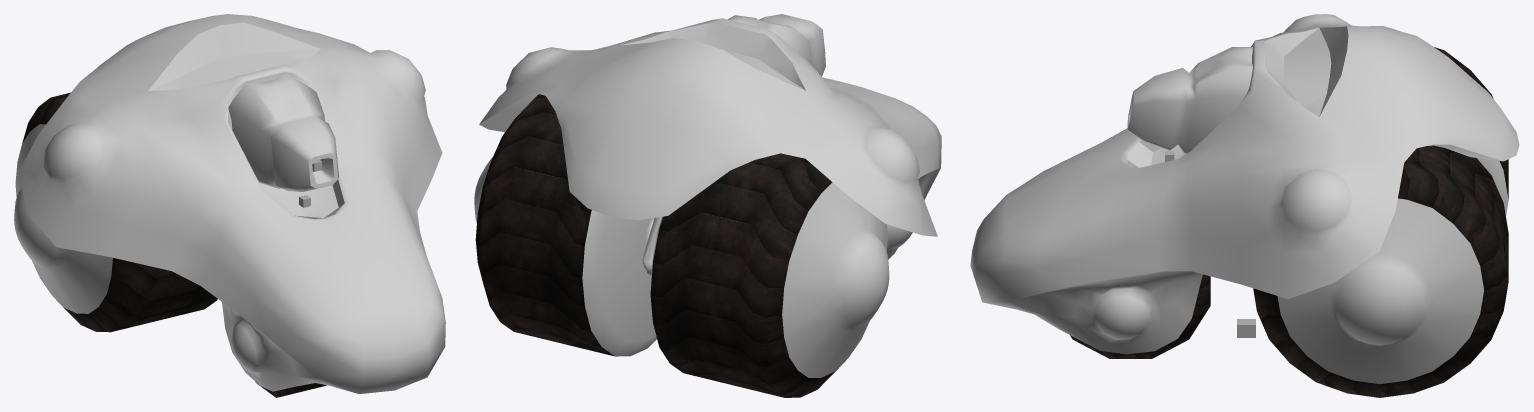
The model's file is evserv_repair.fbx.
3 views of the same model, side by side, from view 1: azimuth 30°, elevation 25°; view 2: azimuth 150°, elevation 25°; view 3: azimuth 270°, elevation 25° (orthographic). The views are drawn at different scales.
Visible parts, largest first — view 1: mainbody, tool, tractor_r, tread_r; view 2: mainbody, tractor_r, tractor_l, tread_r, tread_l, tool; view 3: mainbody, tread_l, tractor_l, tool, tread_r.
Boxes of the visible parts, left/top/right/bottom form: mainbody: left=18, top=14, right=445, bottom=393; tool: left=228, top=73, right=338, bottom=191; tractor_r: left=22, top=92, right=326, bottom=397; tread_r: left=14, top=124, right=112, bottom=313; mainbody: left=479, top=18, right=941, bottom=275; tractor_r: left=650, top=153, right=845, bottom=397; tractor_l: left=475, top=94, right=614, bottom=356; tread_r: left=650, top=182, right=889, bottom=377; tread_l: left=474, top=157, right=656, bottom=356; tool: left=728, top=14, right=825, bottom=76; mainbody: left=970, top=14, right=1519, bottom=354; tread_l: left=1195, top=198, right=1484, bottom=384; tractor_l: left=1070, top=145, right=1508, bottom=397; tool: left=1127, top=47, right=1252, bottom=154; tread_r: left=1477, top=158, right=1508, bottom=215.
Size of the model in its own units: 4.1 by 2.75 by 4.58.
